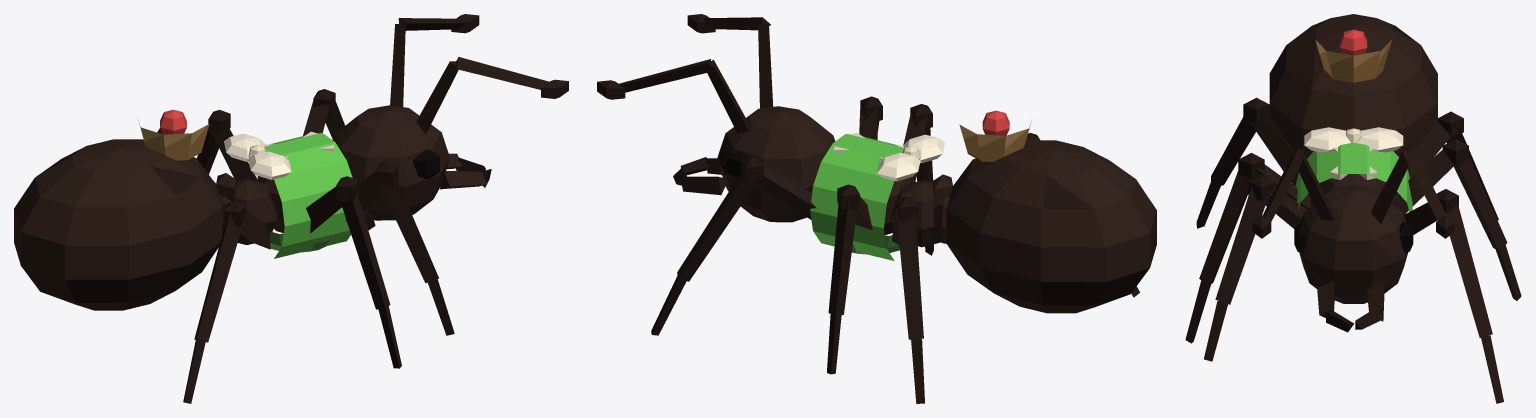
File: ants-forager.glb
3 views of the same model, side by side, from view 1: azimuth 30°, elevation 25°; view 2: azimuth 150°, elevation 25°; view 3: azimuth 270°, elevation 25° (orthographic). The views are drawn at different scales.
Size of the model in its own units: 13.08 by 6.12 by 7.4.
